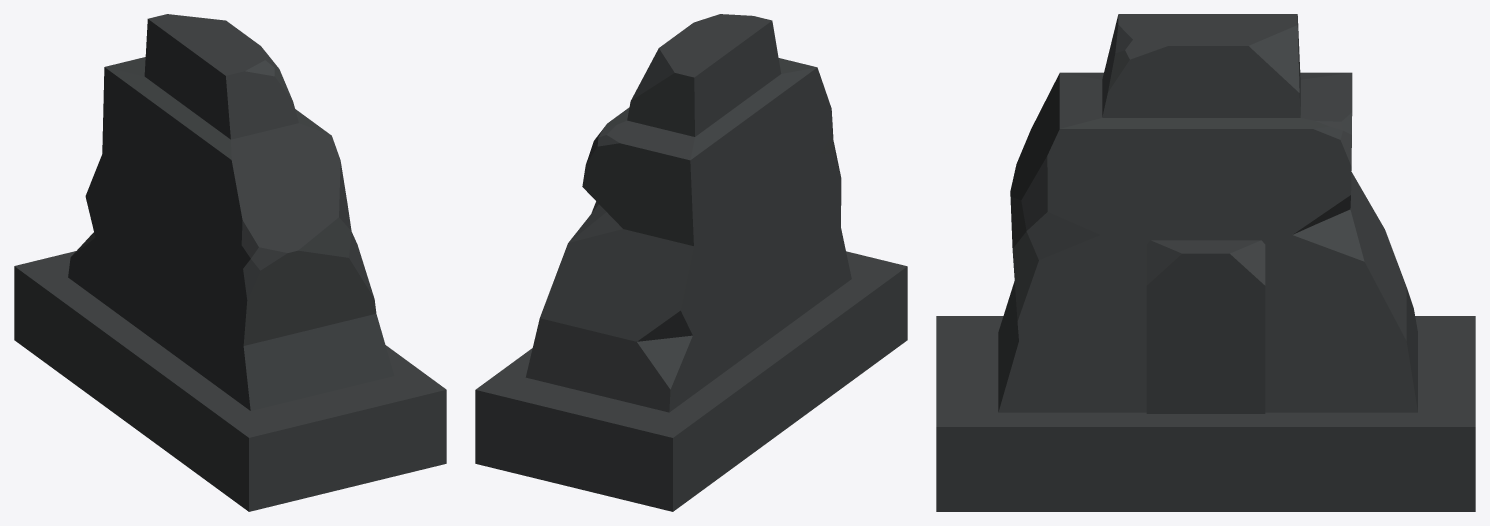
File: gravestone4.fbx
3 views of the same model, side by side, from view 1: azimuth 30°, elevation 25°; view 2: azimuth 150°, elevation 25°; view 3: azimuth 270°, elevation 25° (orthographic). The views are drawn at different scales.
Parts seen in each view (by area): view 1: gravestone4; view 2: gravestone4; view 3: gravestone4.
Part boxes in pixels (x1=…): gravestone4: x1=14, y1=14, x2=446, y2=511; gravestone4: x1=475, y1=14, x2=907, y2=511; gravestone4: x1=936, y1=14, x2=1475, y2=511.
Bounding box in the file's own units: 0.9212 × 1.62 × 1.89.
